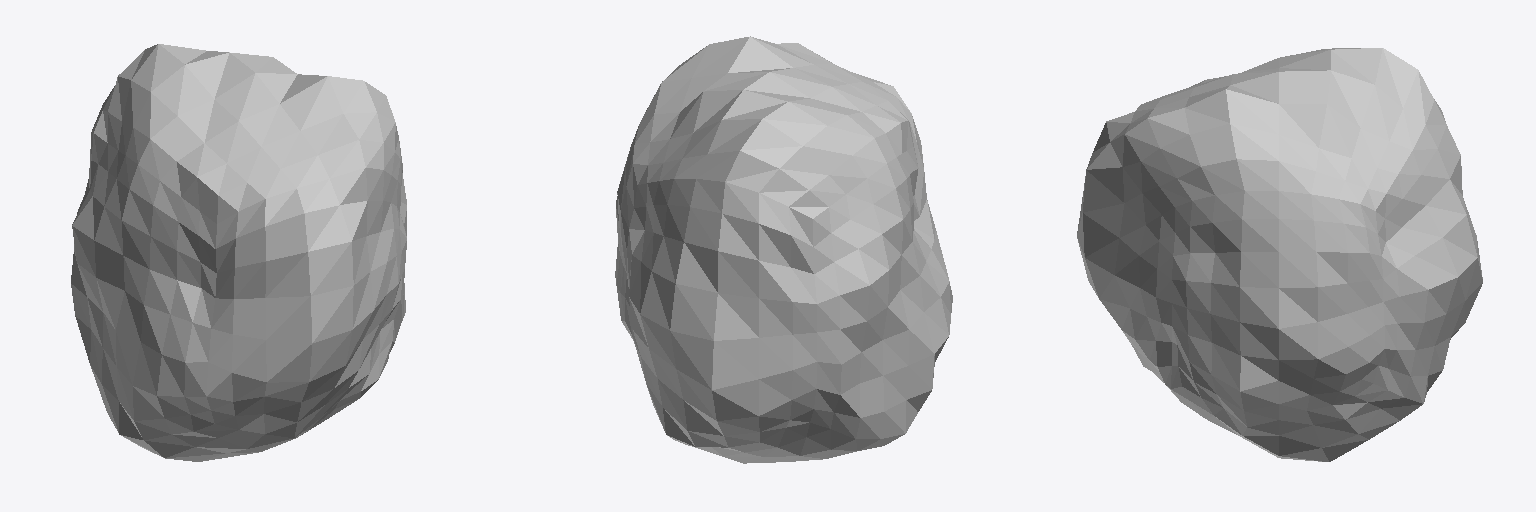
The picture shows the model from 3 angles: view 1: azimuth 30°, elevation 25°; view 2: azimuth 150°, elevation 25°; view 3: azimuth 270°, elevation 25°; orthographic projection.
Parts seen in each view (by area): view 1: defaultMaterial.009; view 2: defaultMaterial.009; view 3: defaultMaterial.009.
Boxes of the visible parts, <box> form: defaultMaterial.009: <box>71,44,406,461</box>; defaultMaterial.009: <box>615,36,952,463</box>; defaultMaterial.009: <box>1077,48,1482,461</box>.
Size of the model in its own units: 6.27 by 7.8 by 7.61.